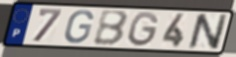4: (160, 12, 186, 49)
7: (32, 7, 64, 44)
B: (92, 10, 130, 47)
G: (127, 10, 161, 48), (63, 9, 95, 45)
N: (186, 12, 230, 51)
